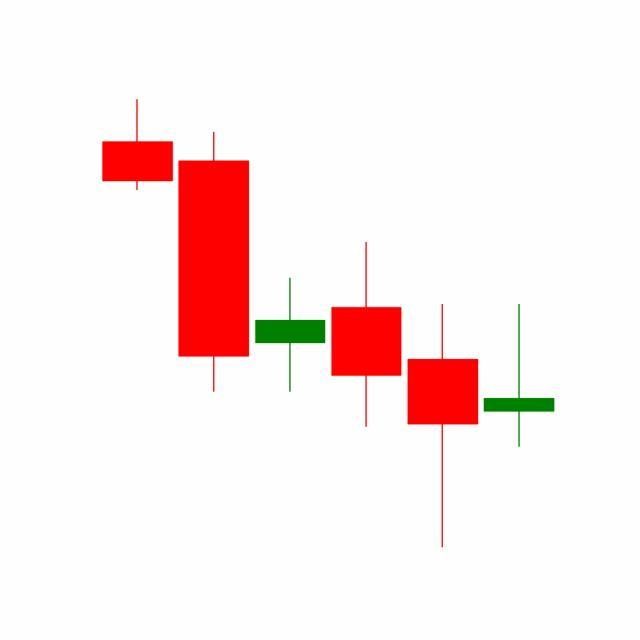Three Outside Up-Down: (252, 238, 482, 548)
